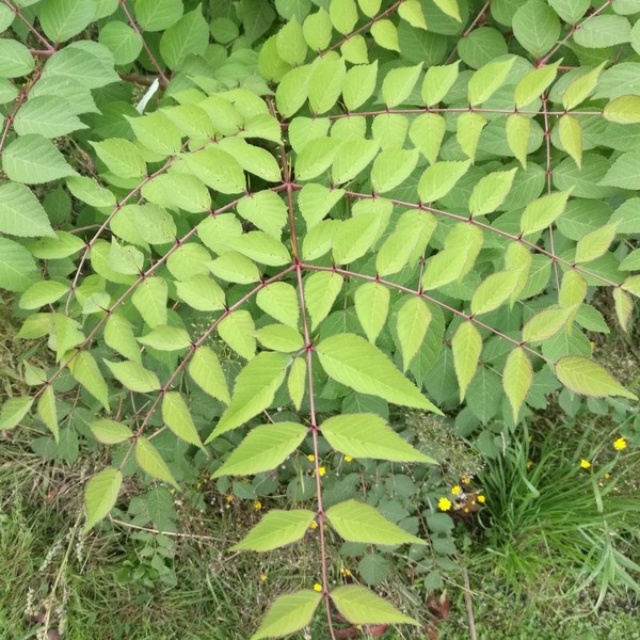obstacle: (25, 21, 596, 606), (454, 420, 606, 606)
